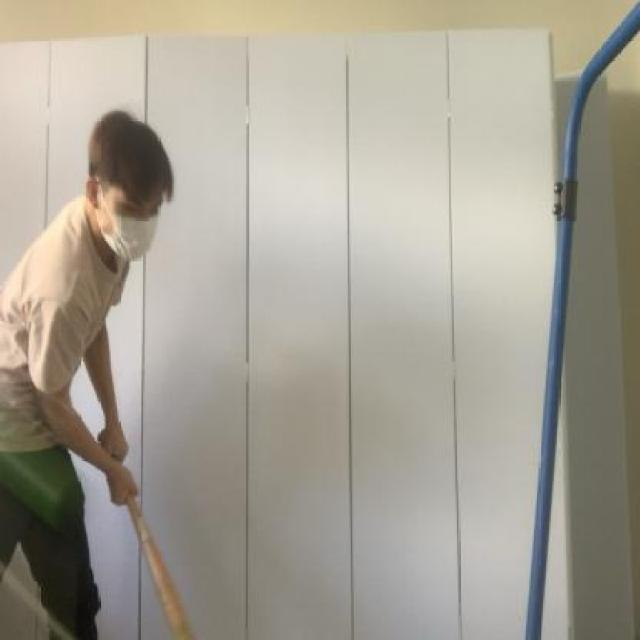baseball: (0, 400, 92, 537)
